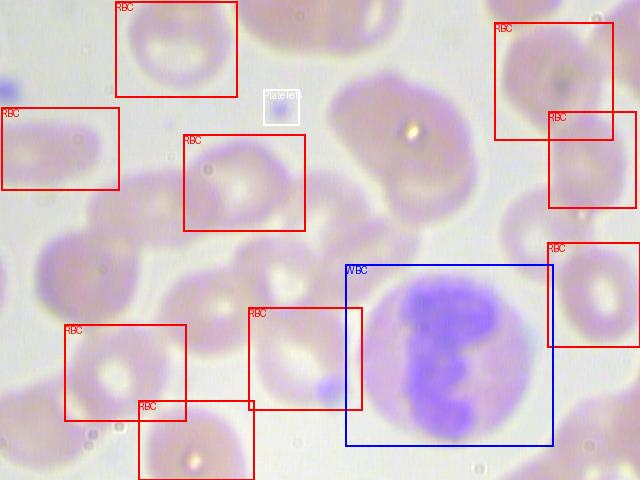Platelets: (263, 89, 299, 125)
RBC: (494, 22, 613, 140), (183, 134, 305, 231), (64, 324, 186, 421), (248, 307, 362, 410), (115, 1, 237, 97), (1, 107, 119, 190), (547, 242, 640, 347), (138, 400, 254, 480), (548, 111, 636, 208)
WBC: (345, 264, 553, 446)
